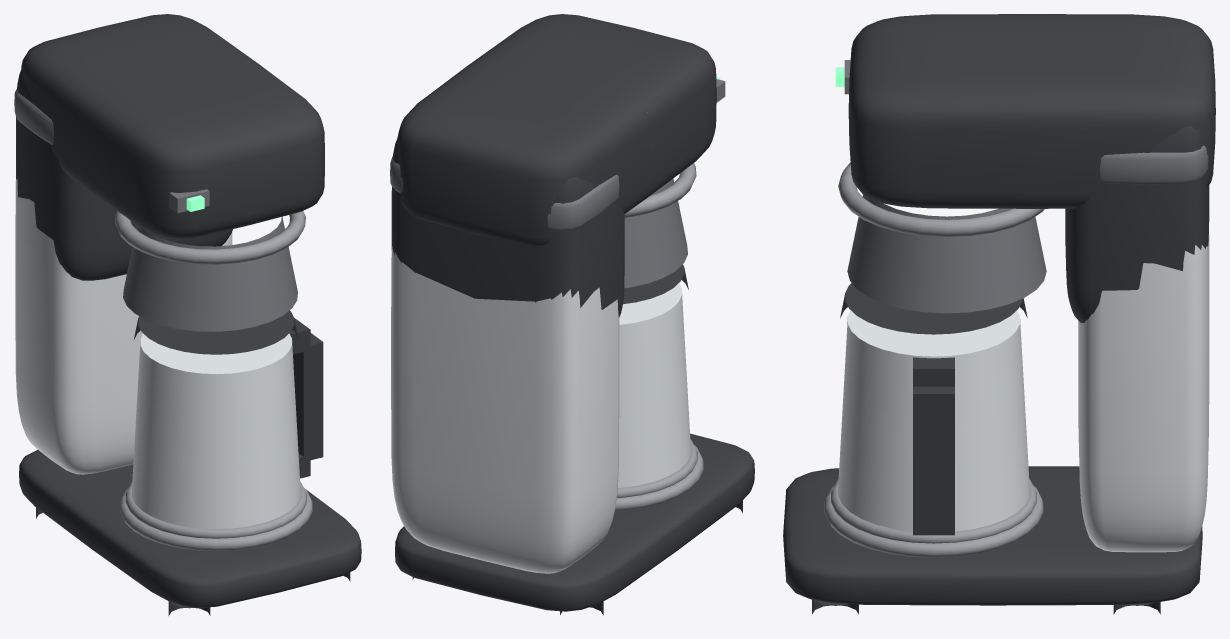
File: coffee-maker.glb
The picture shows the model from 3 angles, left to right: view 1: azimuth 30°, elevation 25°; view 2: azimuth 150°, elevation 25°; view 3: azimuth 270°, elevation 25°; orthographic projection. The views are drawn at different scales.
Parts seen in each view (by area): view 1: bridge, carafe, reservoir, base, filter-basket, bridge-neck, carafe-lid, filter-rim, carafe-handle, plate-ring, carafe-band, reservoir-cap (+2 smaller); view 2: reservoir, bridge, base, bridge-neck, carafe, filter-basket, reservoir-cap, plate-ring, filter-rim, carafe-lid, carafe-band; view 3: bridge, reservoir, base, carafe, filter-basket, bridge-neck, carafe-handle, filter-rim, carafe-lid, plate-ring, reservoir-cap, carafe-band (+1 smaller).
Boxes of the visible parts, x1=… form: bridge: x1=21, y1=14, x2=324, y2=239; carafe: x1=132, y1=333, x2=300, y2=529; reservoir: x1=15, y1=179, x2=232, y2=474; base: x1=19, y1=450, x2=361, y2=607; filter-basket: x1=123, y1=217, x2=297, y2=331; bridge-neck: x1=16, y1=68, x2=232, y2=280; carafe-lid: x1=134, y1=310, x2=298, y2=354; filter-rim: x1=115, y1=211, x2=305, y2=264; carafe-handle: x1=293, y1=333, x2=323, y2=461; plate-ring: x1=120, y1=487, x2=312, y2=551; carafe-band: x1=125, y1=482, x2=306, y2=538; reservoir-cap: x1=14, y1=89, x2=53, y2=144; reservoir: x1=391, y1=246, x2=619, y2=573; bridge: x1=397, y1=14, x2=716, y2=246; base: x1=395, y1=433, x2=754, y2=611; bridge-neck: x1=391, y1=139, x2=624, y2=317; carafe: x1=618, y1=283, x2=690, y2=487; filter-basket: x1=624, y1=178, x2=687, y2=288; reservoir-cap: x1=390, y1=156, x2=619, y2=230; plate-ring: x1=614, y1=445, x2=703, y2=511; filter-rim: x1=624, y1=163, x2=696, y2=217; carafe-lid: x1=623, y1=264, x2=688, y2=303; carafe-band: x1=617, y1=439, x2=697, y2=497; bridge: x1=848, y1=14, x2=1215, y2=208; reservoir: x1=1078, y1=234, x2=1209, y2=552; base: x1=783, y1=466, x2=1202, y2=605; carafe: x1=838, y1=310, x2=1029, y2=531; filter-basket: x1=847, y1=194, x2=1046, y2=313; bridge-neck: x1=1065, y1=125, x2=1209, y2=322; carafe-handle: x1=913, y1=386, x2=954, y2=524; filter-rim: x1=838, y1=162, x2=1044, y2=236; carafe-lid: x1=840, y1=283, x2=1027, y2=334; plate-ring: x1=824, y1=485, x2=1043, y2=557; reservoir-cap: x1=1099, y1=145, x2=1208, y2=184; carafe-band: x1=831, y1=479, x2=1036, y2=543.
Bounding box in the file's own units: 0.2 × 0.441 × 0.33.
Materials: 8 (2 with a texture image).
